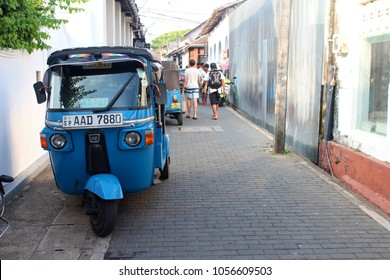threewheel: (34, 47, 172, 236)
